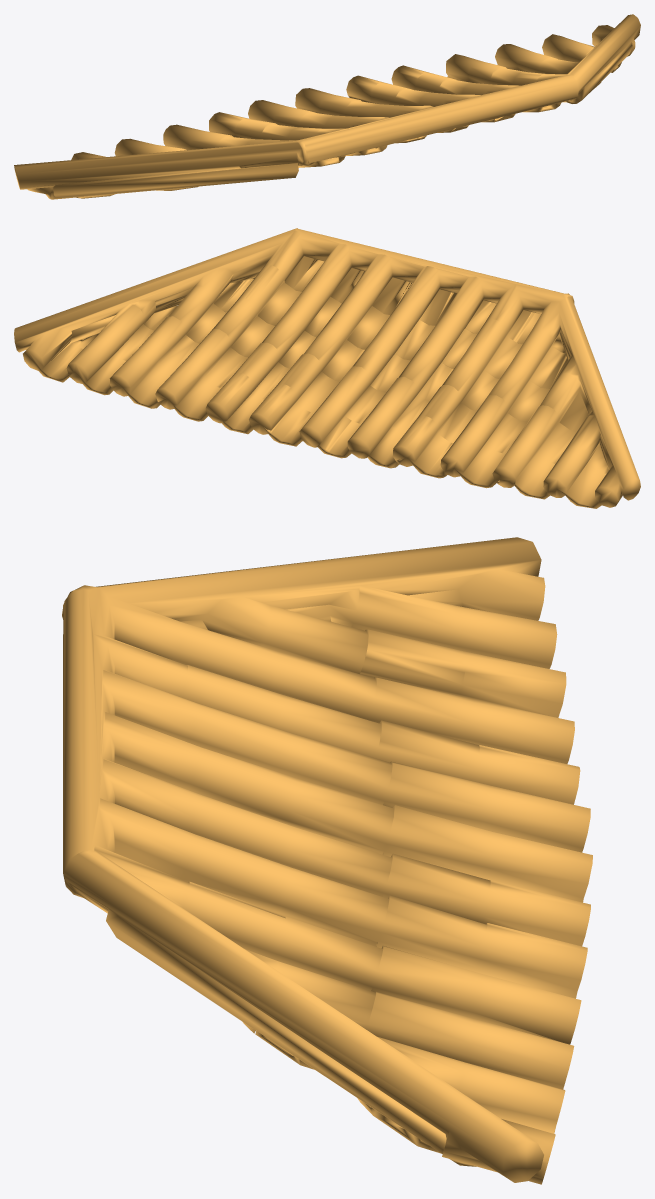
File: yellow.fbx
3 views of the same model, one above another, from view 1: azimuth 30°, elevation 25°; view 2: azimuth 150°, elevation 25°; view 3: azimuth 270°, elevation 25° (orthographic). The views are drawn at different scales.
Visible parts, largest first — view 1: obj_0; view 2: obj_0; view 3: obj_0.
Part boxes in pixels (box(x1,y1,x2,y2)): obj_0: box(14, 14, 640, 199); obj_0: box(14, 228, 640, 508); obj_0: box(62, 537, 592, 1184).
Size of the model in its own units: 27745 by 4261 by 10256.
